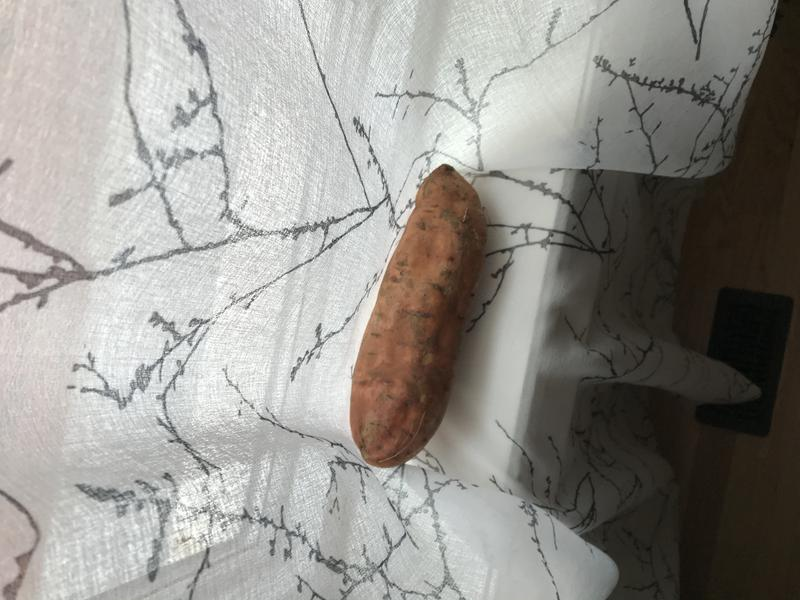sweet_potato: (344, 154, 487, 482)
